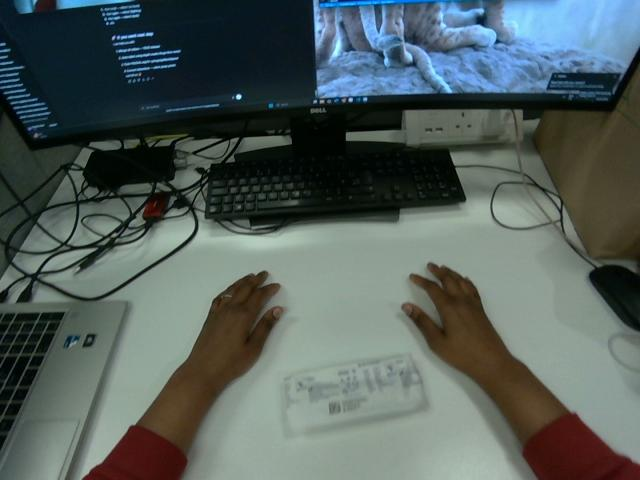syringe: (282, 354, 426, 434)
